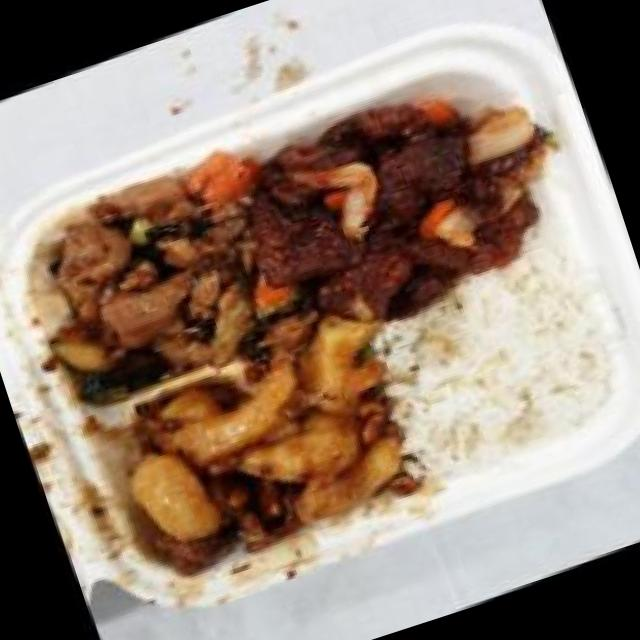Beijing Beef: (213, 46, 594, 361)
Honey Walnut Shrimp: (85, 302, 442, 604)
Kung Pao Chicken: (0, 131, 323, 439)
White Steamed Rice: (360, 243, 639, 491)
